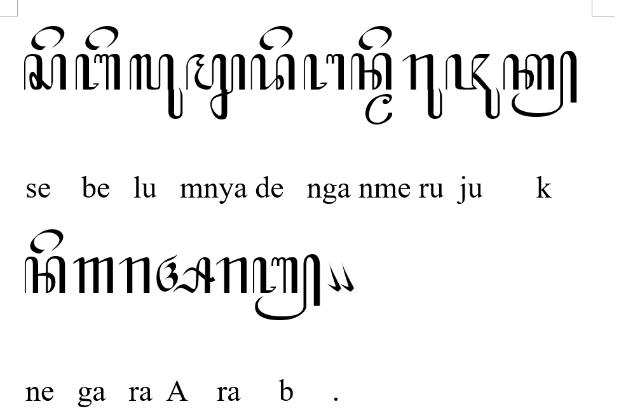-b: (252, 253, 322, 321)
-k: (502, 49, 578, 117)
A: (156, 253, 217, 294)
_m: (364, 94, 394, 126)
b: (75, 54, 122, 91)
d: (250, 54, 296, 91)
e: (358, 24, 392, 52), (258, 25, 294, 51), (85, 25, 119, 51), (30, 228, 64, 254), (30, 26, 66, 50)
g: (73, 256, 115, 294)
ju: (444, 52, 500, 120)
kom: (325, 262, 341, 292), (340, 261, 354, 291)
lu: (129, 53, 183, 118)
mny: (186, 52, 247, 120)
n: (24, 256, 66, 294), (351, 54, 393, 91)
nga: (304, 52, 344, 90)
r: (216, 256, 248, 294), (119, 258, 151, 294)
ru: (402, 52, 442, 120)
s: (23, 54, 67, 91)
